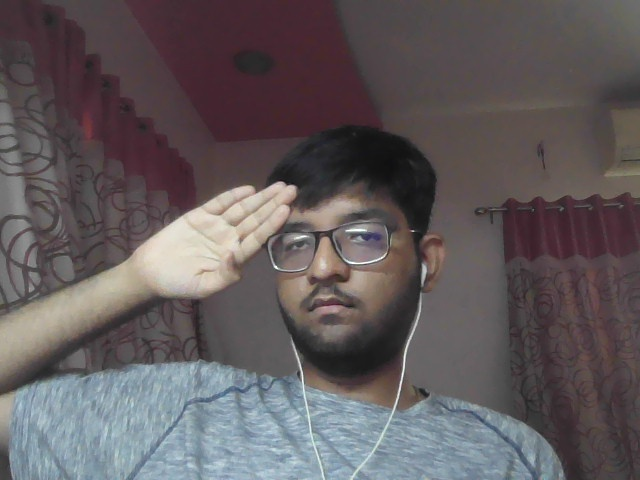નમસ્તે: (93, 169, 312, 315)
